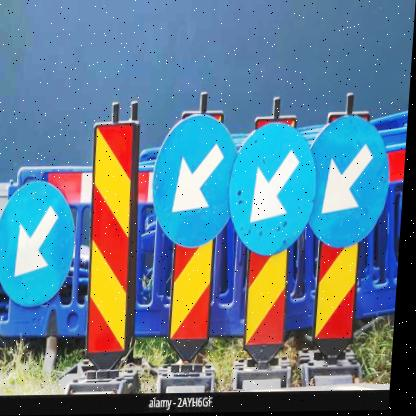Keep left: (310, 100, 398, 251), (149, 117, 241, 248), (231, 120, 317, 256), (0, 176, 82, 310)
